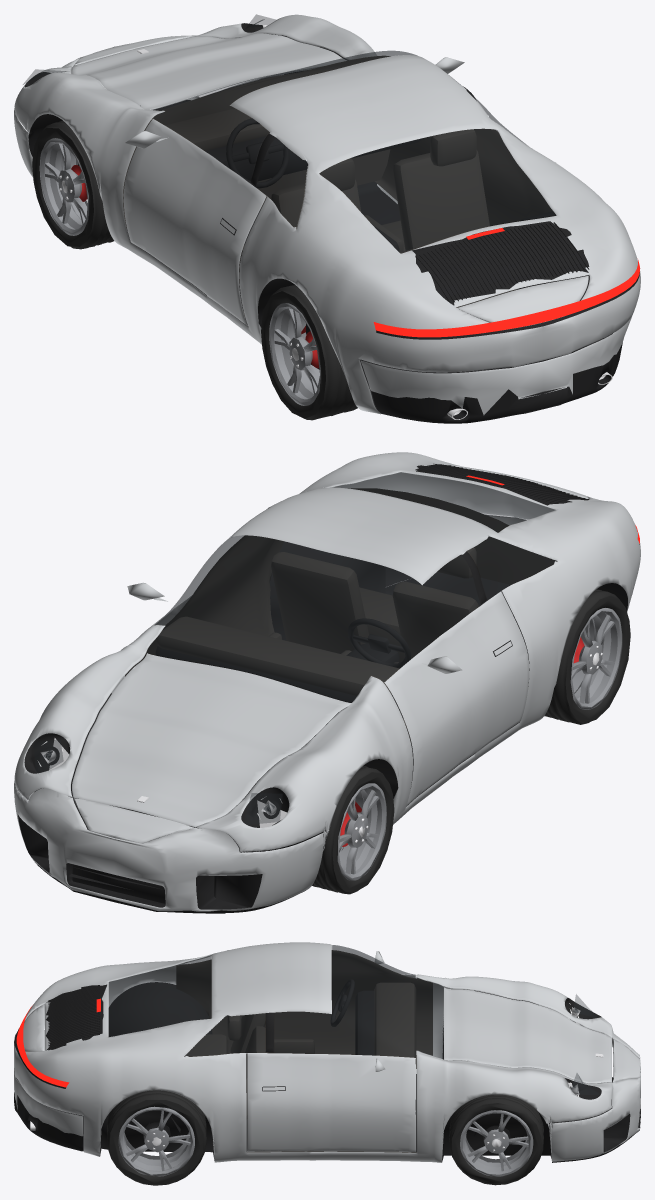
Rendered from car_lod2.glb.
3 views of the same model, one above another, from view 1: azimuth 30°, elevation 25°; view 2: azimuth 150°, elevation 25°; view 3: azimuth 270°, elevation 25° (orthographic). The views are drawn at different scales.
Visible parts, largest first — view 1: body, glass, interior, door_l, bumper_rear, hood, wheel_rl, wheel_fl, lights_rear, spoiler, bumper_front; view 2: body, glass, interior, hood, bumper_front, door_l, wheel_rl, wheel_fl, lights_front; view 3: body, glass, door_r, interior, hood, wheel_rr, wheel_fr, bumper_front, bumper_rear, spoiler, lights_rear, lights_front.
Boxes of the visible parts, left/top/right/bottom form: body: left=14, top=14, right=640, bottom=423; glass: left=152, top=50, right=555, bottom=252; interior: left=123, top=55, right=552, bottom=317; door_l: left=123, top=119, right=266, bottom=326; bumper_rear: left=360, top=316, right=631, bottom=423; hood: left=72, top=33, right=346, bottom=109; wheel_rl: left=261, top=285, right=357, bottom=420; wheel_fl: left=32, top=120, right=113, bottom=249; lights_rear: left=373, top=228, right=640, bottom=339; spoiler: left=457, top=275, right=588, bottom=322; bumper_front: left=14, top=35, right=283, bottom=177; body: left=14, top=452, right=640, bottom=852; glass: left=147, top=472, right=556, bottom=702; interior: left=124, top=488, right=557, bottom=747; hood: left=72, top=653, right=351, bottom=827; bumper_front: left=14, top=781, right=325, bottom=913; door_l: left=384, top=591, right=529, bottom=805; wheel_rl: left=544, top=589, right=630, bottom=724; wheel_fl: left=312, top=766, right=394, bottom=894; lights_front: left=34, top=738, right=286, bottom=889; body: left=14, top=942, right=640, bottom=1162; glass: left=109, top=945, right=443, bottom=1058; door_r: left=247, top=1053, right=415, bottom=1152; interior: left=176, top=950, right=432, bottom=1152; hood: left=444, top=987, right=611, bottom=1083; wheel_rr: left=107, top=1090, right=206, bottom=1185; wheel_fr: left=449, top=1094, right=543, bottom=1185; bumper_front: left=549, top=1019, right=640, bottom=1162; bumper_rear: left=14, top=1030, right=83, bottom=1151; spoiler: left=23, top=1004, right=44, bottom=1051; lights_rear: left=14, top=998, right=100, bottom=1088; lights_front: left=568, top=994, right=598, bottom=1096.
Size of what is drawn, in the model's own units: 2.05 by 1.31 by 4.52.
